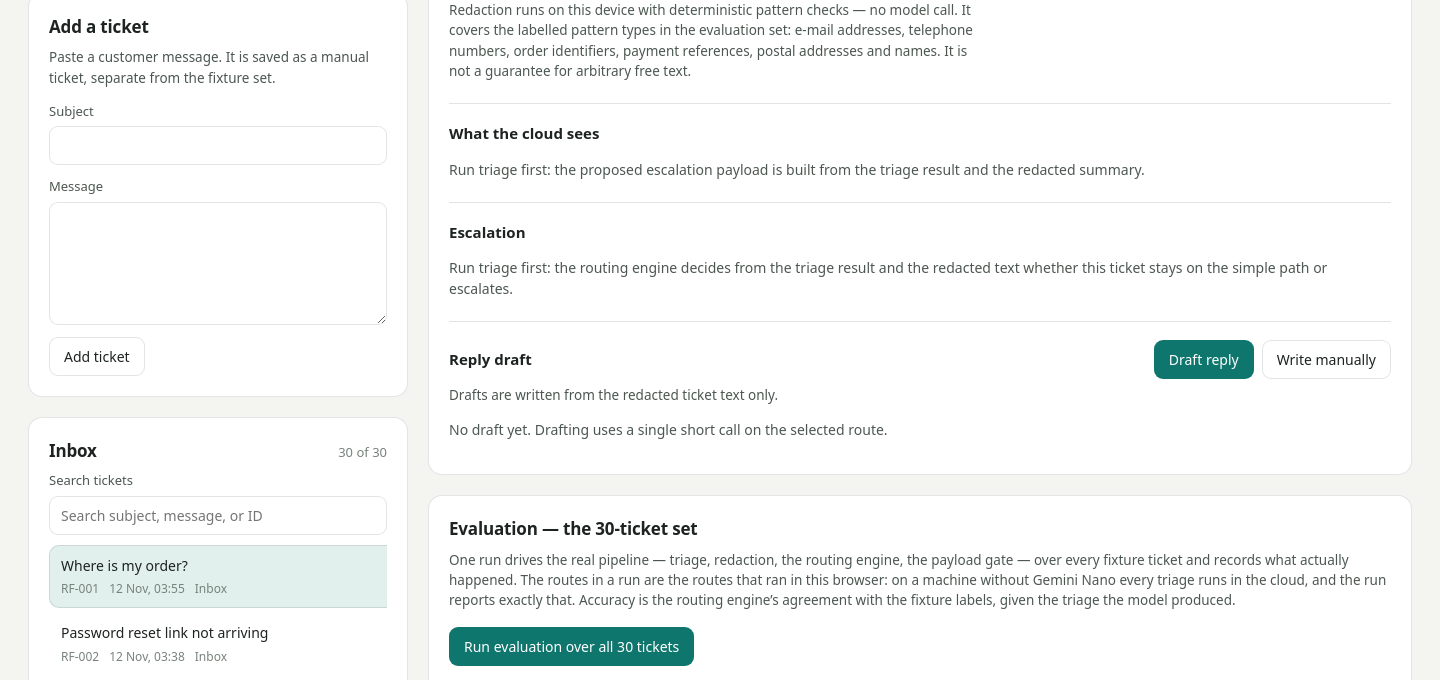
Test: App session-state integrity (T-2.8 W-2) › (c) Regenerate cannot start while a simulated send is in flight for the same ticket
Later steps or results of the test are not shown.
(page scrolled)
Click the button "Draft reply": x=1204, y=360 [1154,340,1254,379]
(page scrolled)
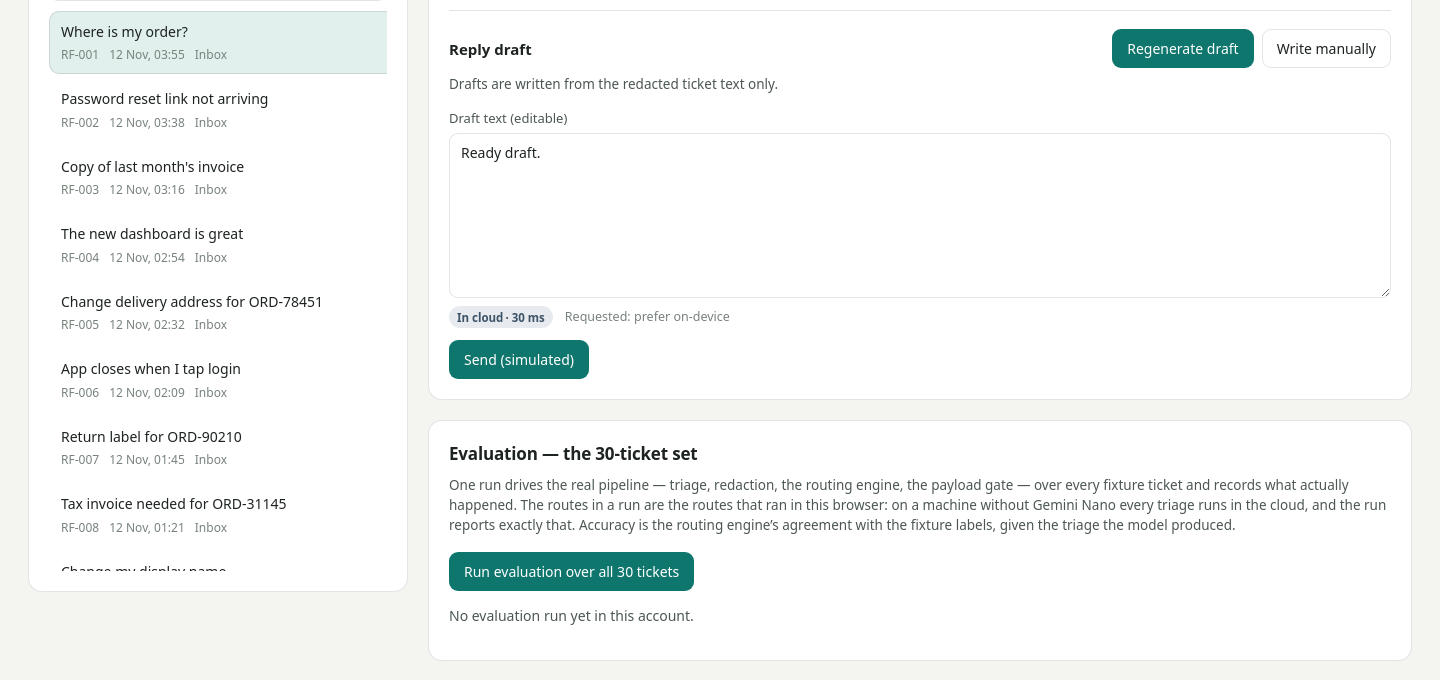
Click the button "Send (simulated)": x=519, y=360 [449,340,589,379]
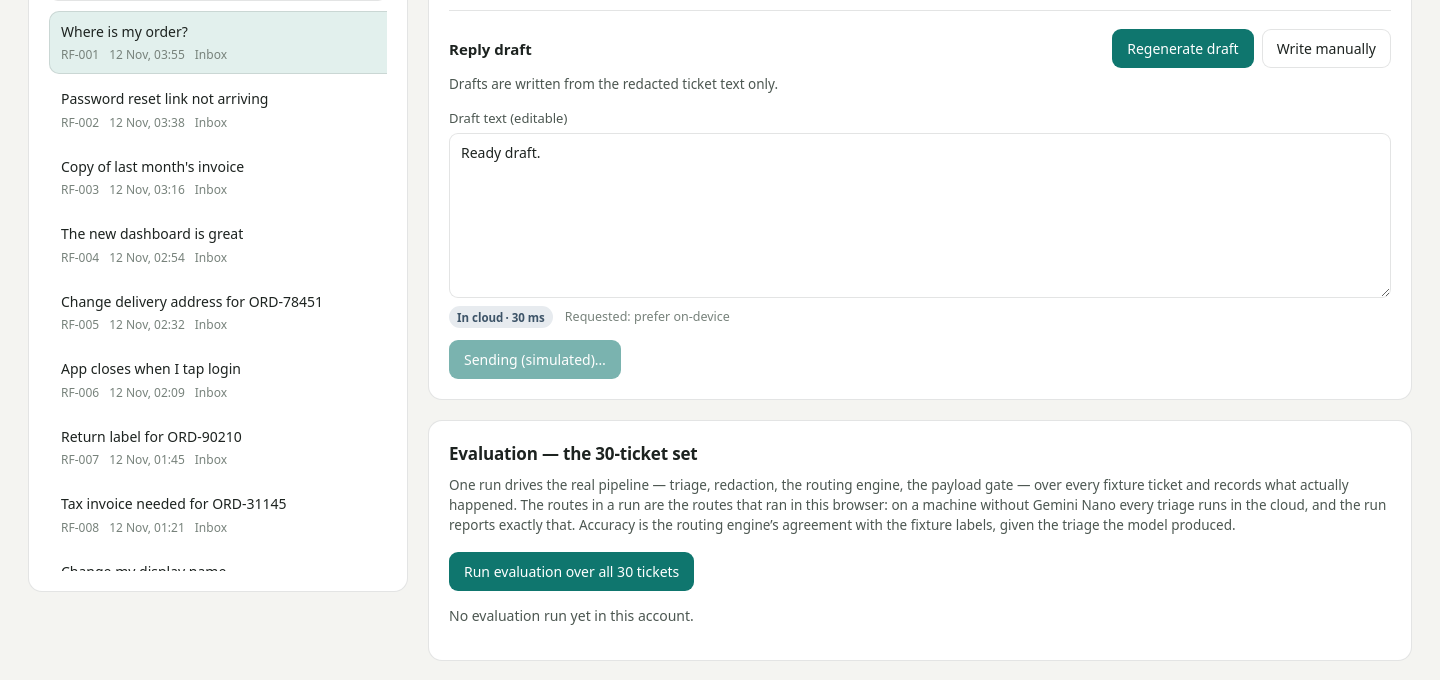
Result: the text "Sending (simulated)…" is shown at [449,340,621,379]
